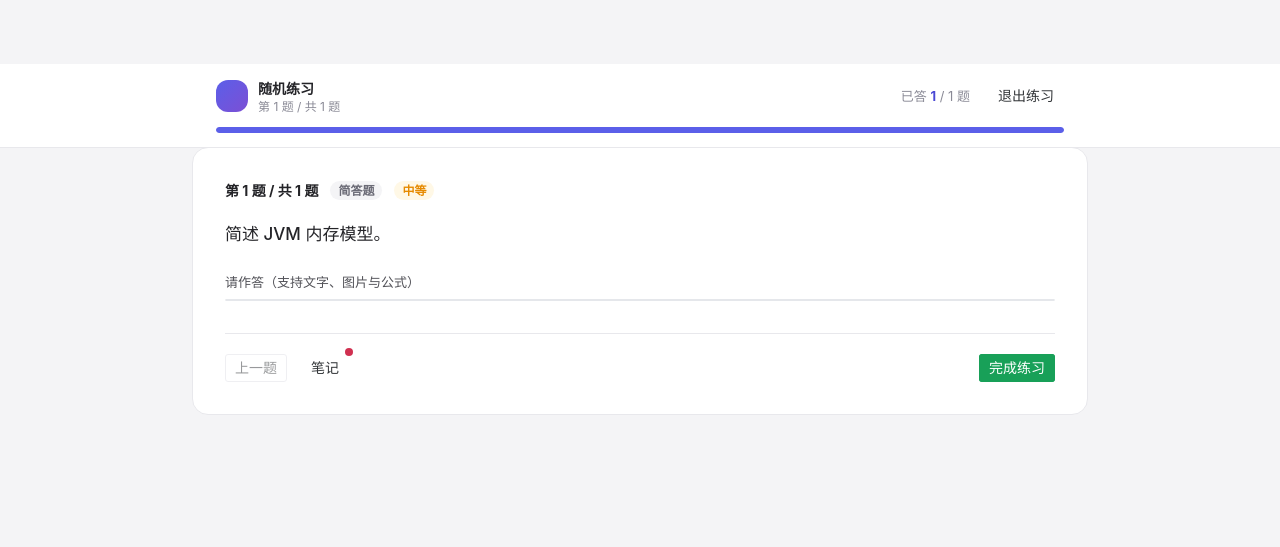
it: PracticePage 自由练习页 › 主观题自评后收起 AI 给分建议（回归：评完仍显示）
Step 1. Click the button "完成练习" → click(1017, 368), box [979,354,1055,382]
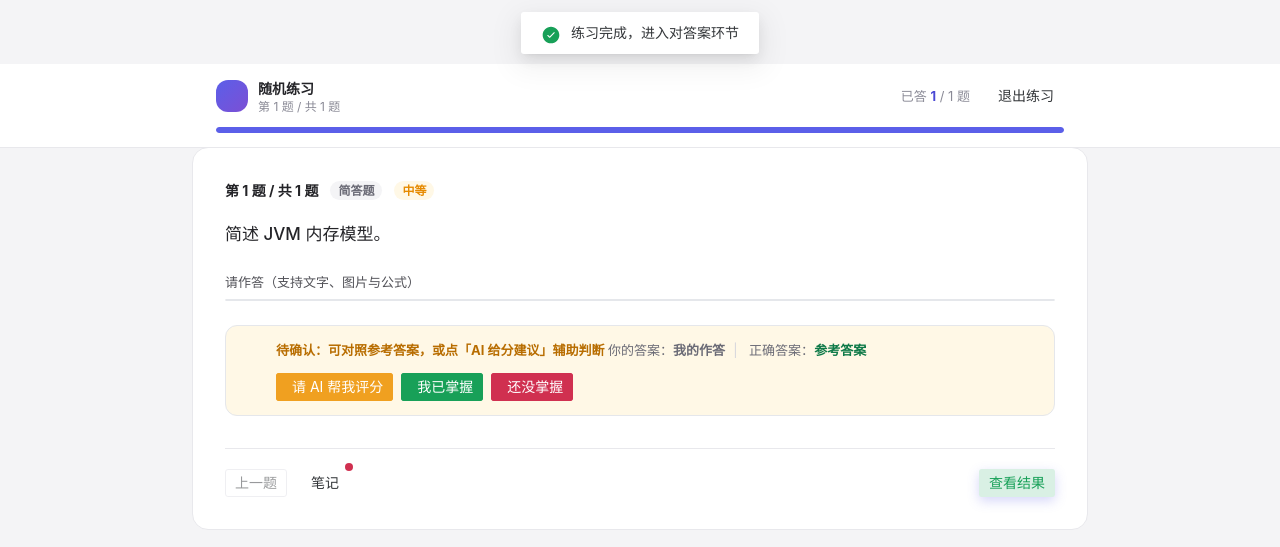
Result: the text "请 AI 帮我评分" is shown at [292,380,383,394]
Result: the text "我已掌握" is shown at [417,380,473,394]
Result: the text "还没掌握" is shown at [507,380,563,394]
// 自评「我已掌握」后，三颗按钮一并收起（结论已定）
Step 2. Click the button "我已掌握" → click(442, 387), box [401,373,483,401]
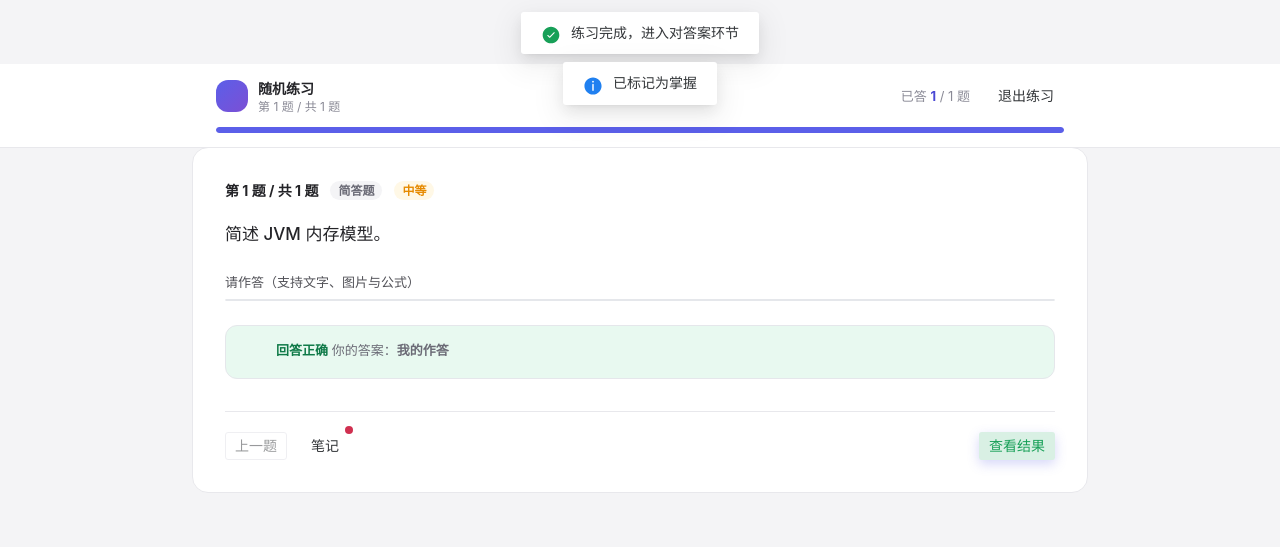
Result: the text "请 AI 帮我评分" is gone
Result: the text "还没掌握" is gone
